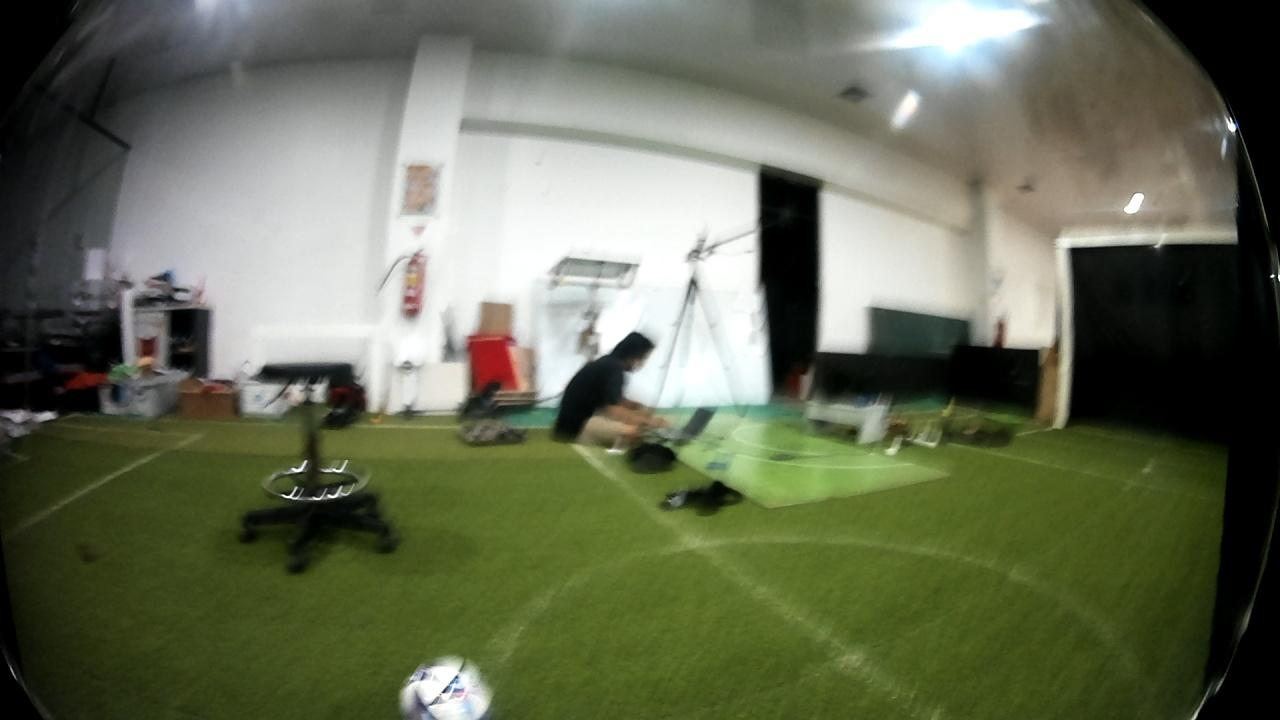ball: (389, 646, 502, 720)
